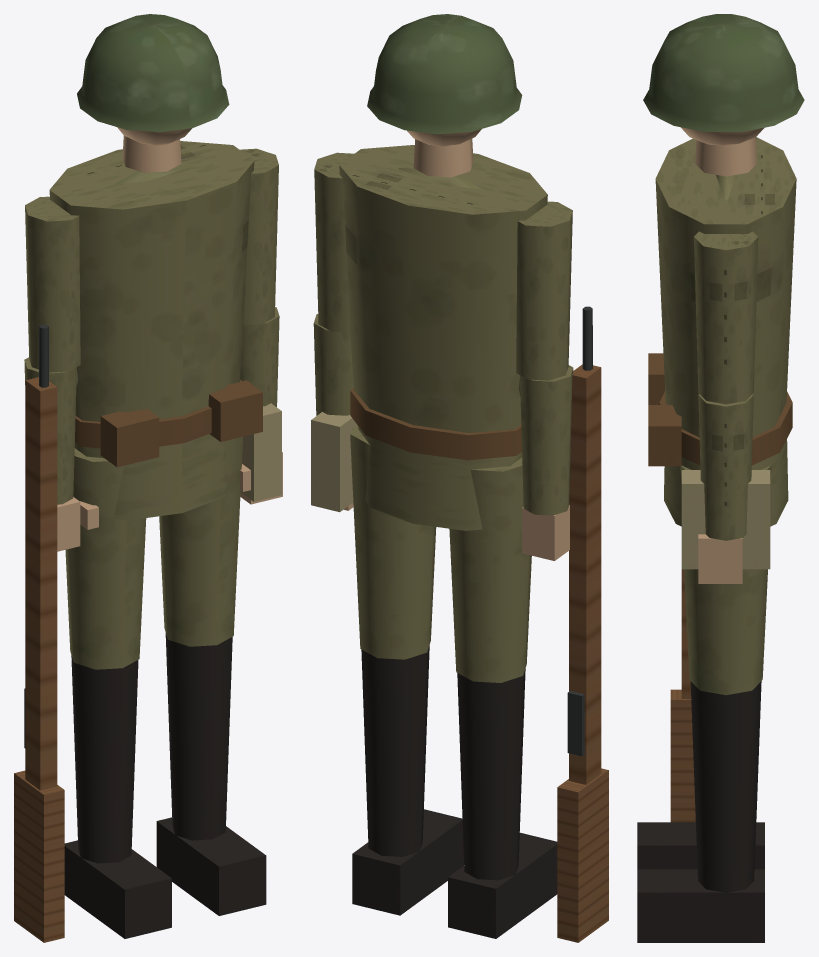
The model's file is infantry-1.glb.
3 renders of one model, left to right at view 1: azimuth 30°, elevation 25°; view 2: azimuth 150°, elevation 25°; view 3: azimuth 270°, elevation 25°, orthographic. The views are drawn at different scales.
Parts seen in each view (by area): view 1: body, rifle, shin_left, shin_right, head, leg_right, leg_left, arm_right, arm_left, forearm_right, forearm_left; view 2: body, rifle, shin_left, shin_right, head, leg_right, leg_left, arm_right, forearm_right, arm_left, forearm_left; view 3: body, shin_left, head, arm_left, leg_left, forearm_left, rifle, shin_right.
Boxes of the visible parts, box(x1,y1,x2,y2) form: body: box(49, 141, 281, 520); rifle: box(14, 324, 64, 942); shin_left: box(156, 633, 266, 915); shin_right: box(64, 655, 171, 938); head: box(77, 14, 229, 172); leg_right: box(65, 448, 146, 669); leg_left: box(159, 437, 243, 646); arm_right: box(25, 196, 80, 372); arm_left: box(240, 148, 278, 325); forearm_right: box(24, 357, 98, 551); forearm_left: box(239, 307, 282, 504); body: box(311, 145, 547, 530); rifle: box(557, 306, 608, 942); shin_left: box(352, 645, 463, 915); shin_right: box(448, 668, 557, 938); head: box(367, 14, 522, 177); leg_right: box(449, 457, 531, 682); leg_left: box(350, 425, 436, 659); arm_right: box(516, 201, 572, 380); forearm_right: box(520, 365, 573, 560); arm_left: box(314, 152, 353, 332); forearm_left: box(313, 314, 353, 510); body: box(648, 137, 796, 569); shin_left: box(637, 681, 764, 942); head: box(643, 14, 804, 176); arm_left: box(694, 231, 758, 404); leg_left: box(680, 465, 772, 695); forearm_left: box(698, 394, 753, 583); rifle: box(670, 569, 695, 822); shin_right: box(637, 822, 764, 869).
Size of the model in its own units: 0.552 by 1.76 by 0.3016.
Materials: 7 (7 with a texture image).
